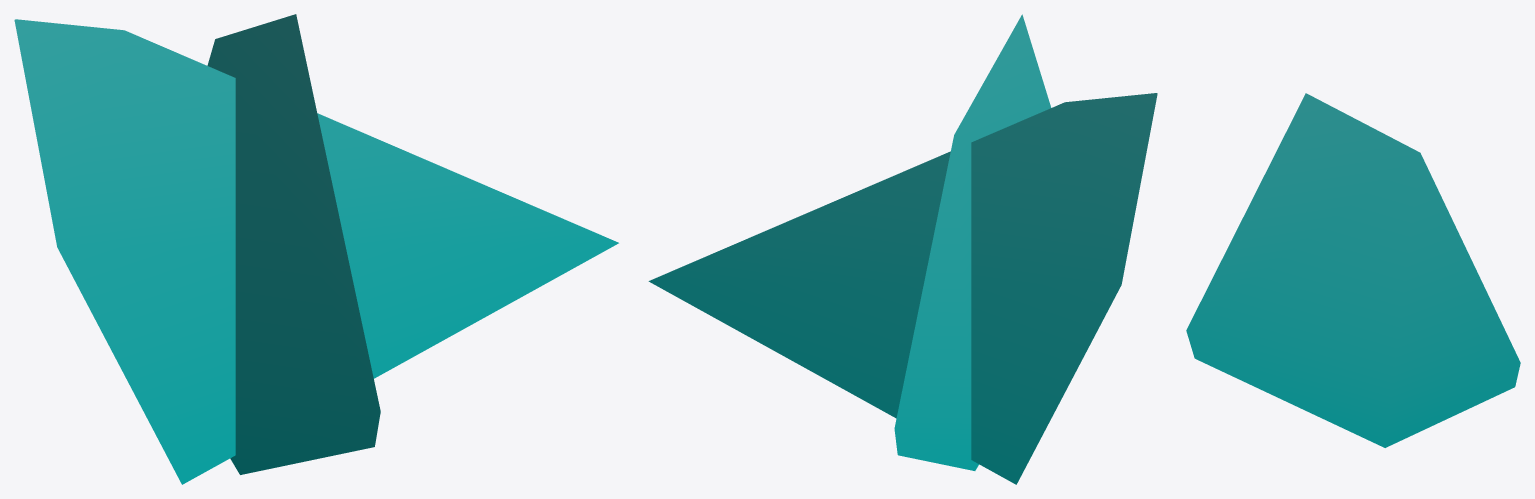
Rendered from Raspberry_wf0oefeja_High_wf0oefeja_VarG_LOD3.fbx.
3 views of the same model, side by side, from view 1: azimuth 30°, elevation 25°; view 2: azimuth 150°, elevation 25°; view 3: azimuth 270°, elevation 25° (orthographic). The views are drawn at different scales.
Parts seen in each view (by area): view 1: _ki17_VarG_LOD4; view 2: _ki17_VarG_LOD4; view 3: _ki17_VarG_LOD4.
Boxes of the visible parts, <box> form: _ki17_VarG_LOD4: <box>14,14,618,484</box>; _ki17_VarG_LOD4: <box>648,14,1157,484</box>; _ki17_VarG_LOD4: <box>1186,93,1520,447</box>.
Size of the model in its own units: 74.52 by 59.59 by 50.45.
